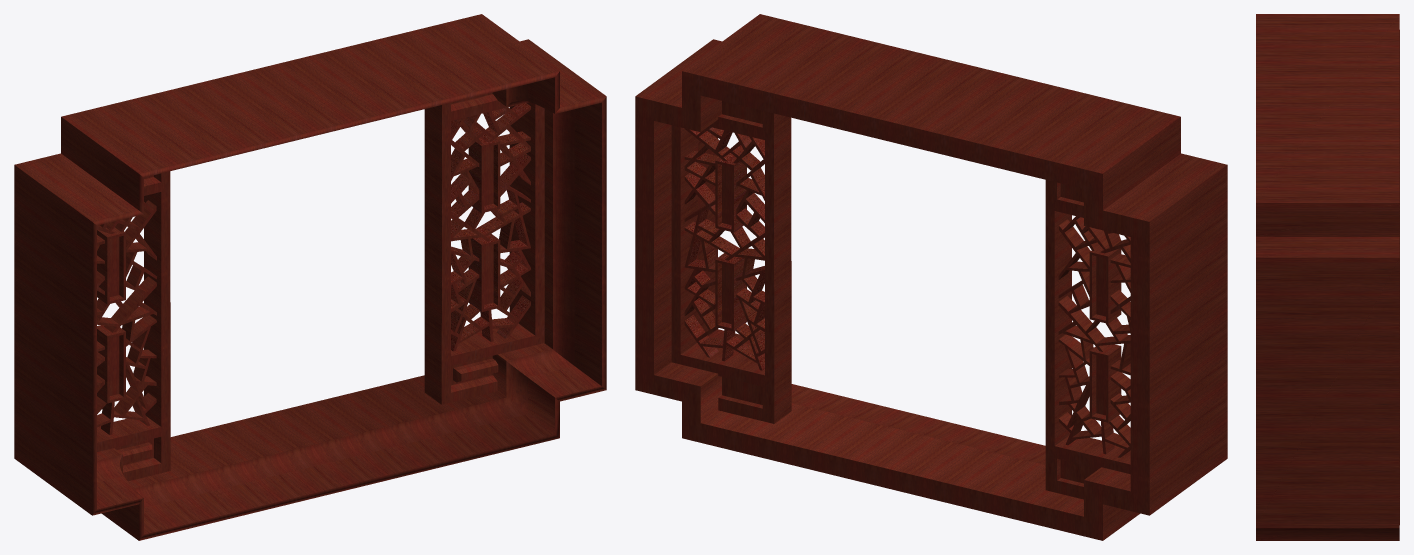
3 views of the same model, side by side, from view 1: azimuth 30°, elevation 25°; view 2: azimuth 150°, elevation 25°; view 3: azimuth 270°, elevation 25° (orthographic). The views are drawn at different scales.
Parts seen in each view (by area): view 1: a, Line02, Line04, Line03, Line05, Rectangle11, Rectangle09, Rectangle15, Rectangle13, Rectangle03; view 2: a, Line02, Line04, Line05, Line03, Rectangle15, Rectangle11, Rectangle13, Rectangle09, Rectangle04; view 3: a.
Boxes of the visible parts, x1,y1,x2,y2 form: a: [14, 14, 606, 540]; Line02: [424, 94, 544, 404]; Line04: [451, 103, 530, 351]; Line03: [97, 171, 170, 481]; Line05: [97, 200, 156, 438]; Rectangle11: [468, 233, 500, 312]; Rectangle09: [468, 137, 500, 213]; Rectangle15: [97, 325, 125, 403]; Rectangle13: [97, 227, 125, 304]; Rectangle03: [453, 358, 498, 382]; a: [635, 14, 1227, 540]; Line02: [671, 111, 791, 423]; Line04: [684, 126, 764, 370]; Line05: [1058, 216, 1130, 457]; Line03: [1045, 180, 1130, 499]; Rectangle15: [1089, 344, 1121, 422]; Rectangle11: [715, 253, 746, 331]; Rectangle13: [1089, 247, 1121, 323]; Rectangle09: [715, 156, 746, 232]; Rectangle04: [722, 377, 762, 404]; a: [1256, 14, 1399, 540].
Bounding box in the file's own units: 1063 × 725 × 280.
